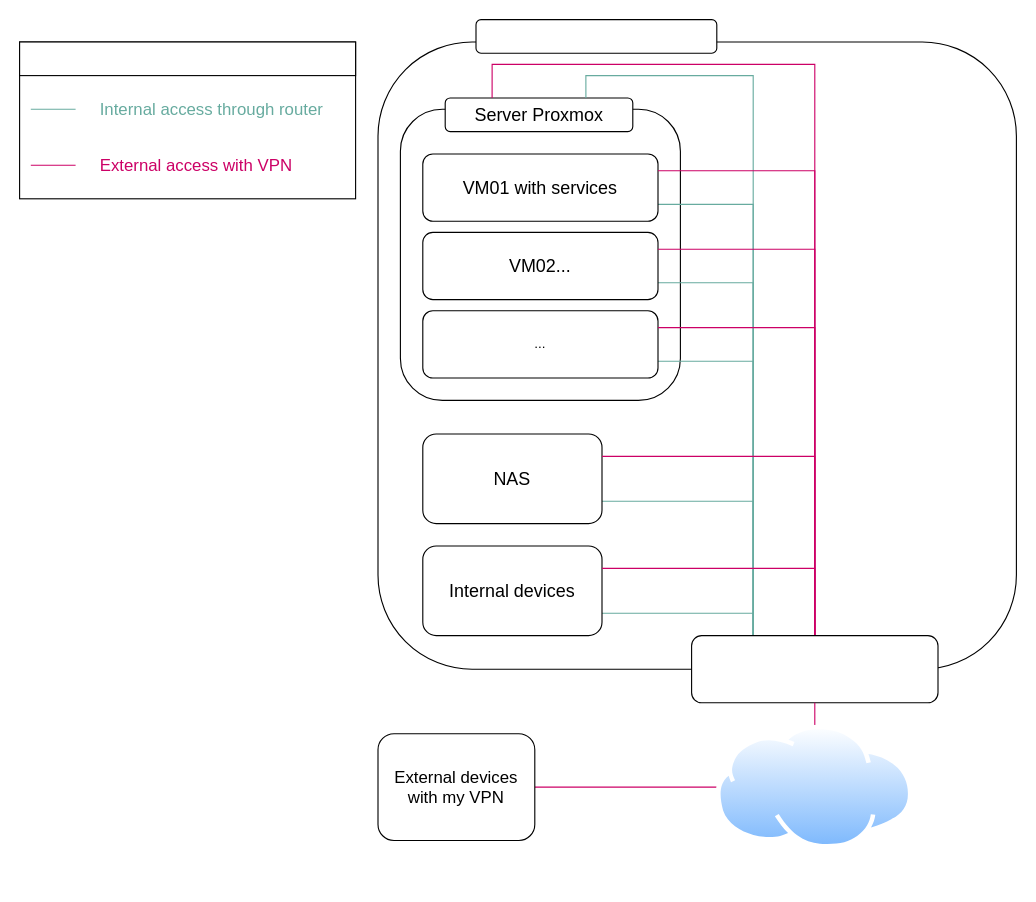
Some shapes in this 1036 by 902 pixel diagram are drawn without their labels. The centre of each missing label's shape, as x and y in pixels:
"Internal network" belongs at point 596,35.
"Internet" belongs at point 814,787.
"Legend:" belongs at point 187,58.
"Router" belongs at point 814,668.
